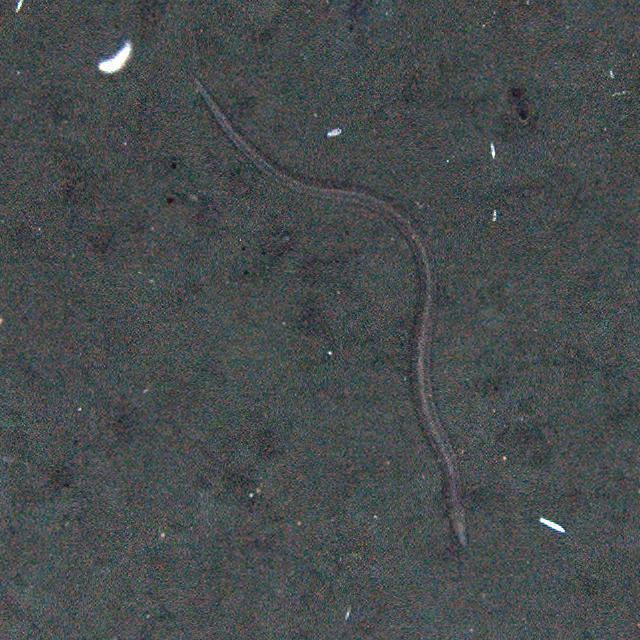eel: (192, 73, 472, 551)
